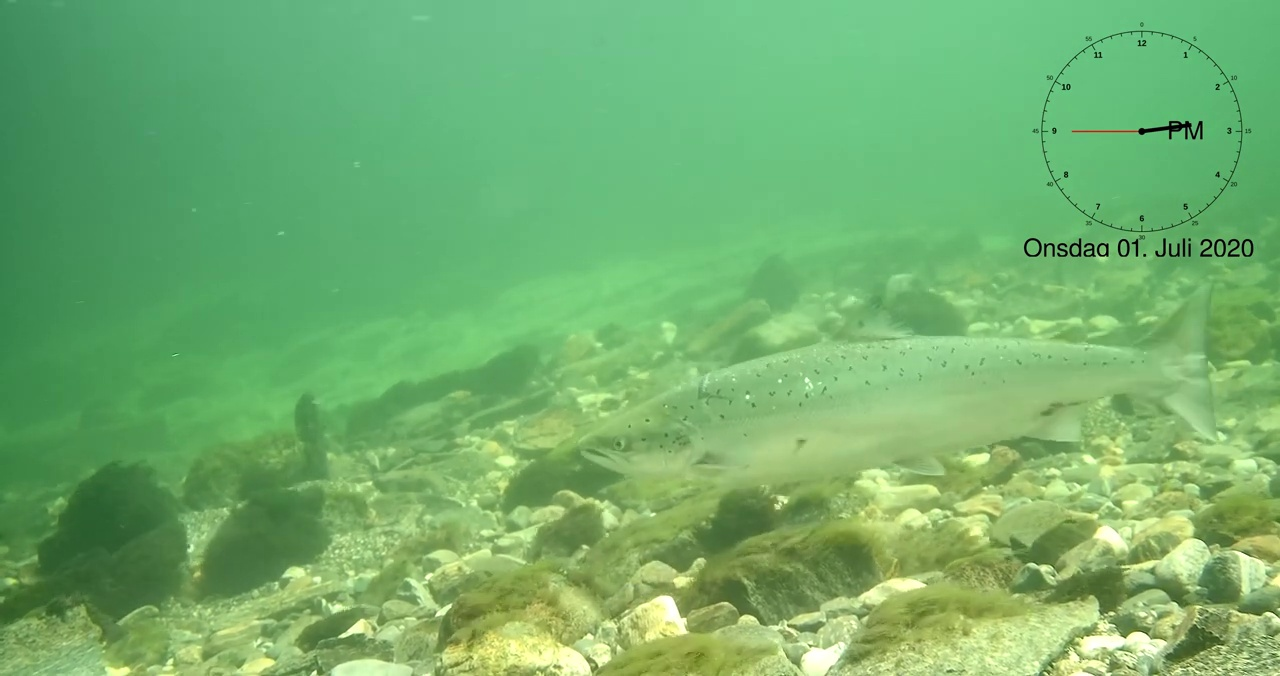salmon: (575, 276, 1221, 489)
